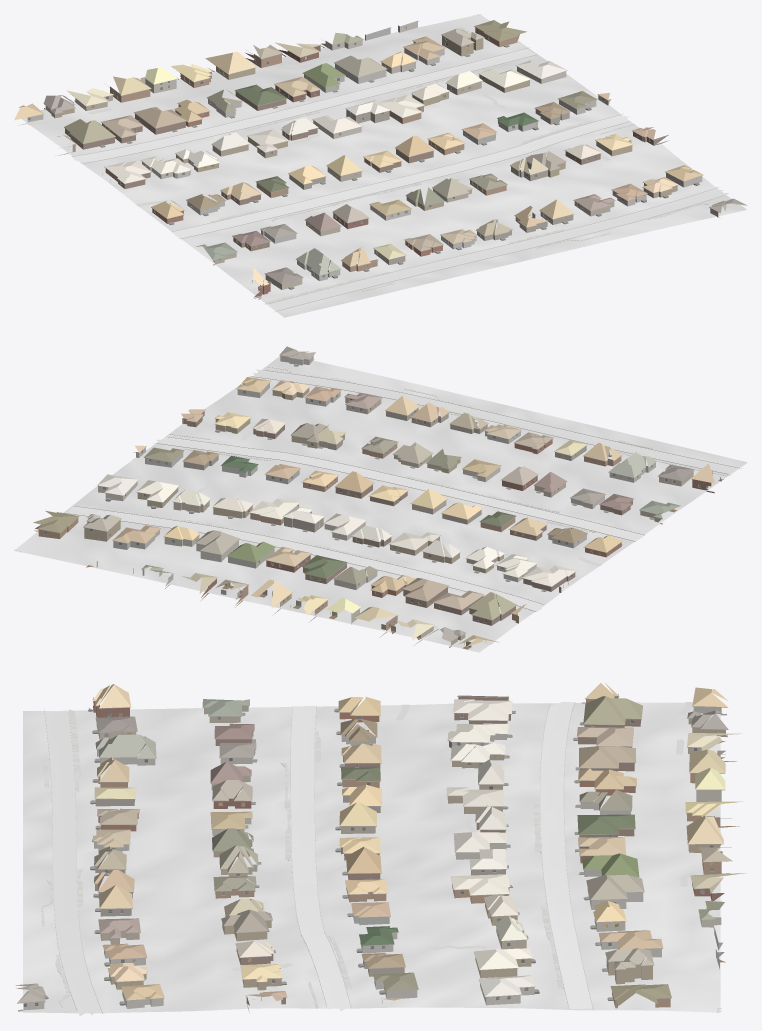
The picture shows the model from 3 angles, top to bottom: view 1: azimuth 30°, elevation 25°; view 2: azimuth 150°, elevation 25°; view 3: azimuth 270°, elevation 25°; orthographic projection. The views are drawn at different scales.
Visible parts, largest first — view 1: ground, roof, concrete, wall, detail, curb, wall_stone, wall_stucco, walk, glass; view 2: ground, roof, concrete, wall, detail, curb, wall_stone, walk, wall_stucco, glass; view 3: ground, roof, concrete, wall, detail, walk, wall_stone, wall_stucco, curb, glass.
Boxes of the visible parts, <box> form: ground: <box>21,14,746,317</box>; roof: <box>14,20,747,285</box>; concrete: <box>72,49,729,310</box>; wall: <box>44,27,677,298</box>; detail: <box>23,21,737,299</box>; curb: <box>72,47,729,312</box>; wall_stone: <box>18,42,718,281</box>; wall_stucco: <box>140,20,566,289</box>; walk: <box>27,14,730,304</box>; glass: <box>27,37,651,277</box>; ground: <box>14,356,747,652</box>; roof: <box>33,346,714,646</box>; concrete: <box>66,369,736,611</box>; wall: <box>34,388,714,647</box>; detail: <box>37,355,723,644</box>; curb: <box>61,367,741,611</box>; wall_stone: <box>113,356,655,589</box>; walk: <box>14,365,731,644</box>; wall_stucco: <box>96,467,693,624</box>; glass: <box>44,391,708,626</box>; ground: <box>23,702,720,1013</box>; roof: <box>15,682,746,1005</box>; concrete: <box>45,702,592,1015</box>; wall: <box>93,694,739,1011</box>; detail: <box>17,696,731,1007</box>; walk: <box>41,702,722,1013</box>; wall_stone: <box>18,706,726,1011</box>; wall_stucco: <box>96,724,723,1005</box>; curb: <box>44,702,593,1013</box>; glass: <box>23,713,713,1006</box>.
Size of the model in its own units: 264 by 16.48 by 263.
